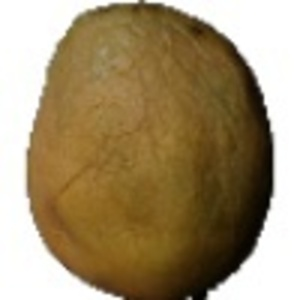mamão: (21, 5, 280, 296)
